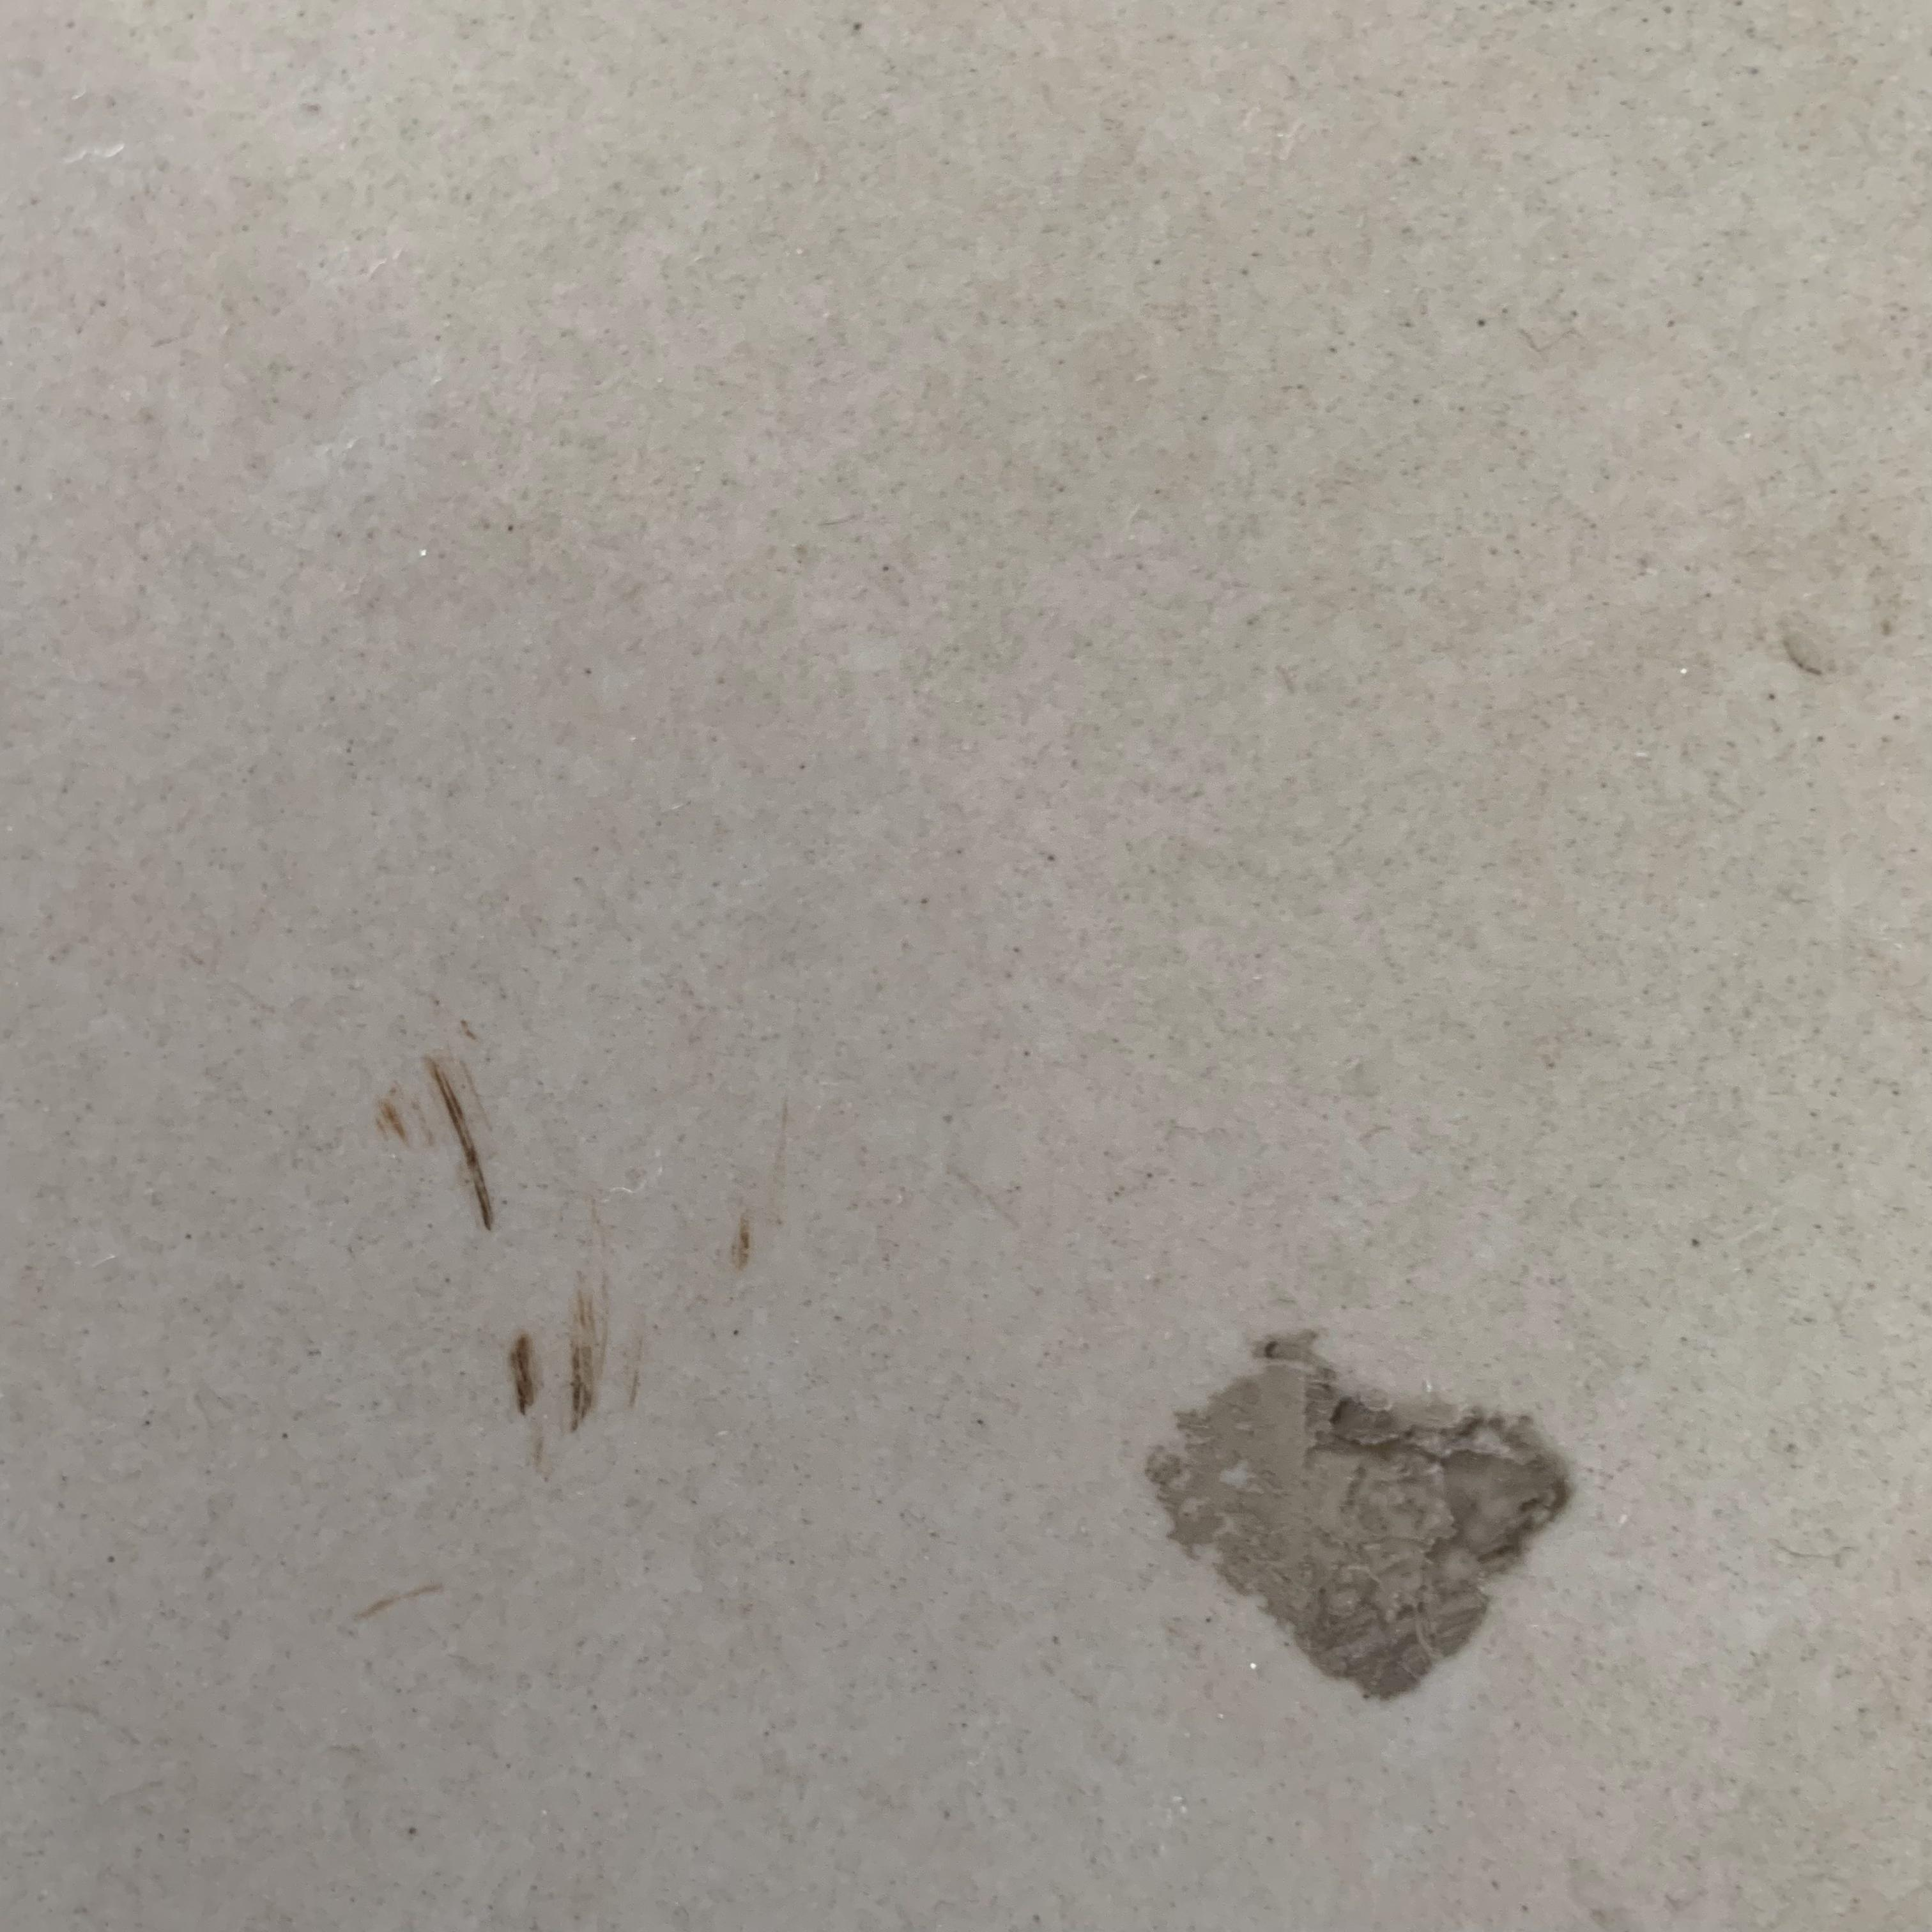grey spot: (1145, 1334, 1573, 1706)
